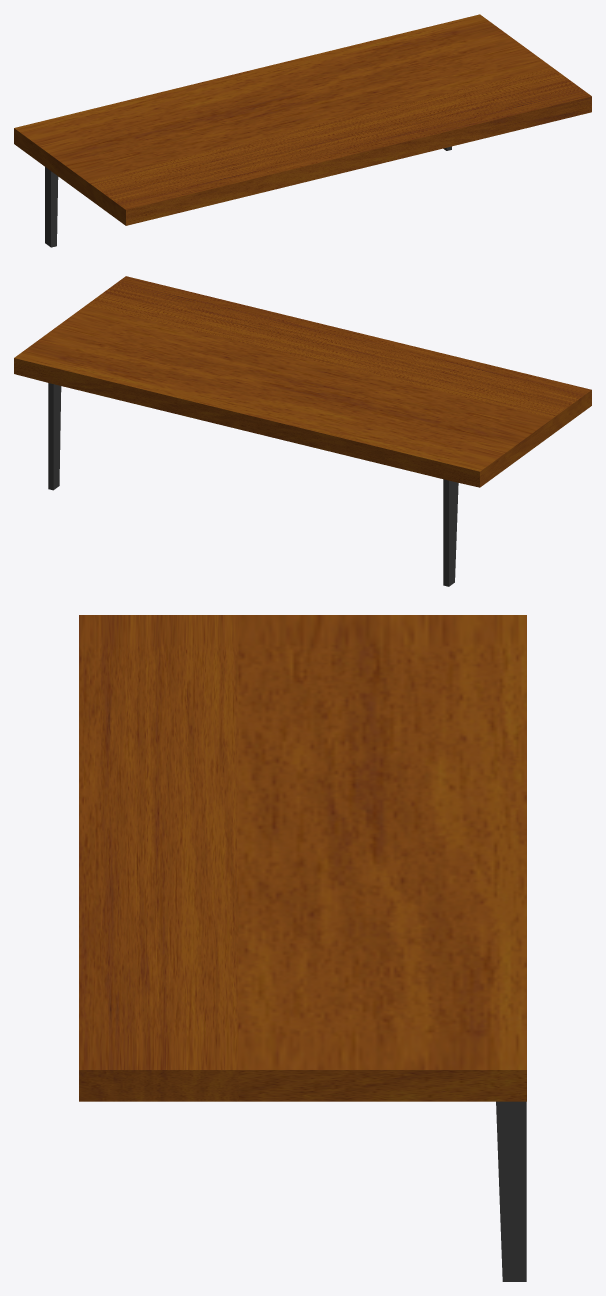
File: Repisa2.fbx
The picture shows the model from 3 angles, top to bottom: view 1: azimuth 30°, elevation 25°; view 2: azimuth 150°, elevation 25°; view 3: azimuth 270°, elevation 25°; orthographic projection. The views are drawn at different scales.
Parts seen in each view (by area): view 1: Cube.001; view 2: Cube.001; view 3: Cube.001.
Boxes of the visible parts, x1,y1,x2,y2 form: Cube.001: (14,14,591,247); Cube.001: (14,276,591,586); Cube.001: (79,615,526,1281).
Bounding box in the file's own units: 173 × 43.54 × 72.
2 materials, 1 textured.
